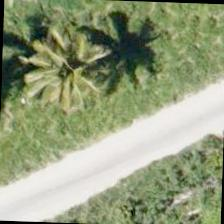Kelapa_Sawit: (20, 24, 113, 117)
